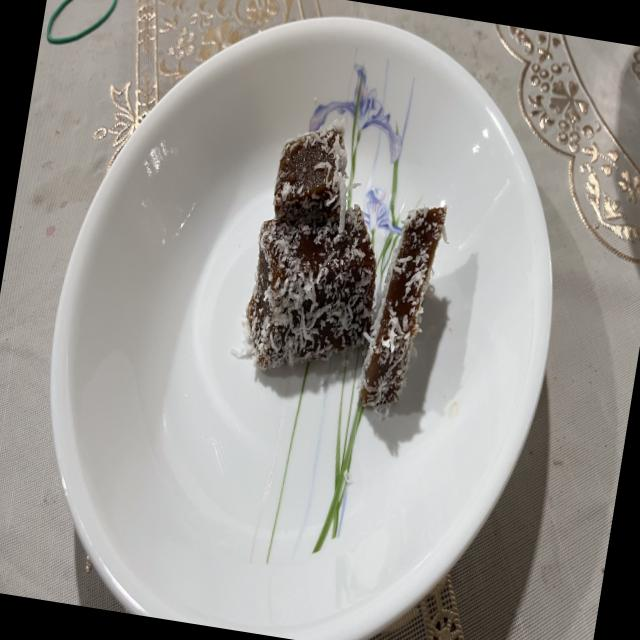kaswi: (245, 203, 376, 371), (359, 206, 447, 408), (274, 128, 347, 224)
